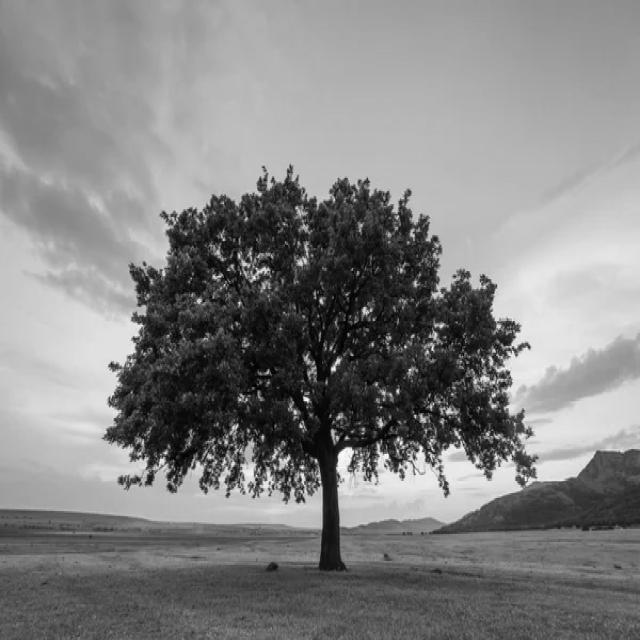Tree: (106, 167, 536, 570)
